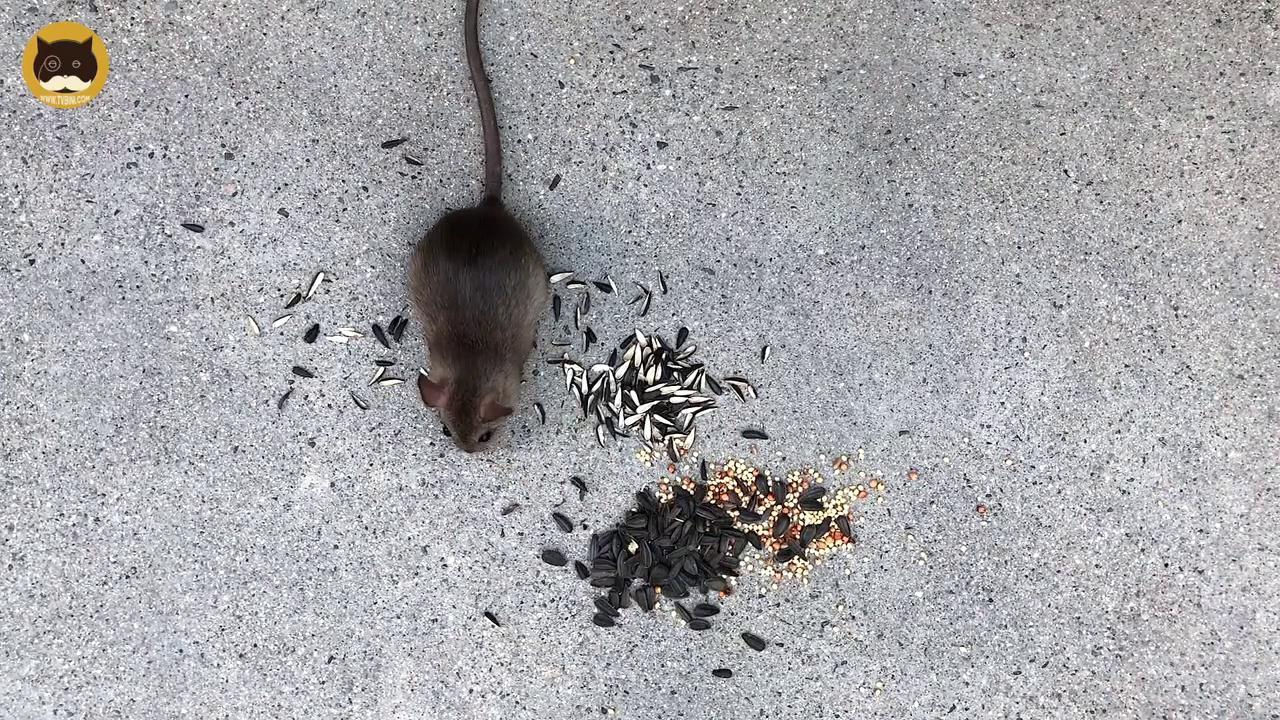rat: (403, 0, 550, 456)
